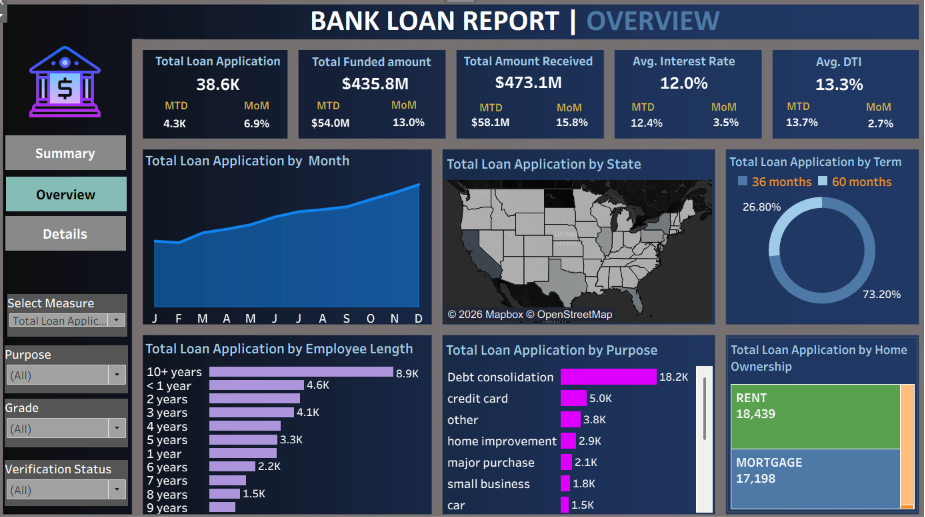

This screenshot's page, from the dashboard's own definition file:
{"tool":"tableau","page":{"name":"OVERVIEW","canvas":[1000,1000],"units":"permille","ordinal":1},"visuals":[{"type":"image","param":"Image/Tableau Background 2.jpg","box":[5.7,9.9,988.6,980.1]},{"type":"text","box":[337.1,18.6,449.4,65.8]},{"type":"image","param":"Image/download (1) 1.png","box":[20.6,88.1,118.5,162.5]},{"type":"worksheet","title":"Total Loan Application","mark":"Automatic","box":[167.5,109.2,148.6,79.4]},{"type":"worksheet","title":"Total Amount Received","mark":"Automatic","box":[495.5,109.2,152.1,72]},{"type":"worksheet","title":"Avg. Interest Rate","mark":"Automatic","box":[660.1,109.2,152.8,74.4]},{"type":"worksheet","title":"Total Funded amount","mark":"Automatic","box":[330.8,110.4,149.3,73.2]},{"type":"worksheet","title":"Avg. DTI","mark":"Automatic","box":[826.9,110.4,149.3,76.9]},{"type":"text","box":[411.7,193.6,55.1,37.2]},{"type":"text","box":[172.4,194.8,50.2,37.2]},{"type":"text","box":[255.4,194.8,55.1,37.2]},{"type":"text","box":[334.3,194.8,50.2,37.2]},{"type":"text","box":[751.6,197.3,55.1,37.2]},{"type":"text","box":[506.6,198.5,50.2,37.2]},{"type":"text","box":[587.6,198.5,55.1,37.2]},{"type":"text","box":[674.1,199.8,37.7,31]},{"type":"text","box":[833.2,199.8,50.2,28.5]},{"type":"text","box":[915.6,199.8,55.1,32.3]},{"type":"worksheet","title":"MoM Total Funded Amount","mark":"Automatic","box":[420.1,225.8,48.1,36]},{"type":"worksheet","title":"MTD Total Funded Amount","mark":"Automatic","box":[338.4,227.1,46.8,37.2]},{"type":"worksheet","title":"MTD Total Amount Received","mark":"Automatic","box":[506.7,227.1,48.7,33.5]},{"type":"worksheet","title":"MoM Avg. Interest Rate","mark":"Automatic","box":[761.3,227.1,39.1,33.5]},{"type":"worksheet","title":"MTD Avg. Interest Rate","mark":"Automatic","box":[672.7,228.3,48.1,34.7]},{"type":"worksheet","title":"MoM Avg.DTI","mark":"Automatic","box":[917.7,228.3,54.4,36]},{"type":"worksheet","title":"MTD Loan Application","mark":"Automatic","box":[175.2,229.5,41.2,34.7]},{"type":"worksheet","title":"MoM Loan Application","mark":"Automatic","box":[265.2,229.5,34.9,33.5]},{"type":"worksheet","title":"MoM Total Amount Received","mark":"Automatic","box":[591.1,229.5,53,29.8]},{"type":"worksheet","title":"MTD Avg. DTI","mark":"Automatic","box":[838.8,229.5,46.8,29.8]},{"type":"dashboard-object","box":[16.3,269.2,127.8,64.5]},{"type":"worksheet","title":"Month","mark":"Area","rows":["Calculation_0456039233261605","Calculation_0456039233261605"],"cols":["issue_date"],"box":[162.2,292.8,305.9,332.5]},{"type":"worksheet","title":"Term","mark":"Pie","rows":["Calculation_0456039258734631","Calculation_0456039258734631"],"box":[781.9,296.5,202.6,323.8]},{"type":"worksheet","title":"State","mark":"Multipolygon","box":[482.3,299,284.7,318.9]},{"type":"legend","title":"Term","param":"[federated.1d4ytph0btjmoy1crx2t60rukmry].[none:term:nk]","box":[790.4,338.7,173.5,31]},{"type":"dashboard-object","box":[17,346.2,127.8,64.5]},{"type":"dashboard-object","box":[16.3,419.4,127.8,64.5]},{"type":"parameter","param":"[Parameters].[Parameter 1]","box":[18.4,564.5,127.5,79.4]},{"type":"worksheet","title":"Employee Length","mark":"Automatic","rows":["emp_length"],"cols":["Calculation_0456039233261605"],"box":[162.2,642.7,305.9,331.3]},{"type":"worksheet","title":"Purpose","mark":"Automatic","rows":["purpose"],"cols":["Calculation_0456039233261605"],"box":[481.6,645.2,286.1,326.3]},{"type":"worksheet","title":"Home Own","mark":"Automatic","box":[783.3,646.4,200.4,322.6]},{"type":"filter","title":"Avg. DTI","param":"[federated.1d4ytph0btjmoy1crx2t60rukmry].[none:purpose:nk]","box":[15.6,660.1,131,89.3]},{"type":"filter","title":"Avg. DTI","param":"[federated.1d4ytph0btjmoy1crx2t60rukmry].[none:grade:nk]","box":[15.6,759.3,131,90.6]},{"type":"filter","title":"Avg. DTI","param":"[federated.1d4ytph0btjmoy1crx2t60rukmry].[none:verification_status:nk]","box":[15.6,873.5,131,85.6]}]}

Visuals, with their boxes on the dashboard's canvas, which has no fixed pixel size, in thousandths of its width and height (x1, y1, x2, y2). These are canvas units, not pixel positions in the 925x517 screenshot, which may show the page scaled, cropped or inside an application window:
image: crop(6, 10, 994, 990)
text: crop(337, 19, 786, 84)
image: crop(21, 88, 139, 251)
"Total Loan Application" worksheet: crop(168, 109, 316, 189)
"Total Amount Received" worksheet: crop(496, 109, 648, 181)
"Avg. Interest Rate" worksheet: crop(660, 109, 813, 184)
"Total Funded amount" worksheet: crop(331, 110, 480, 184)
"Avg. DTI" worksheet: crop(827, 110, 976, 187)
text: crop(412, 194, 467, 231)
text: crop(172, 195, 223, 232)
text: crop(255, 195, 310, 232)
text: crop(334, 195, 384, 232)
text: crop(752, 197, 807, 234)
text: crop(507, 198, 557, 236)
text: crop(588, 198, 643, 236)
text: crop(674, 200, 712, 231)
text: crop(833, 200, 883, 228)
text: crop(916, 200, 971, 232)
"MoM Total Funded Amount" worksheet: crop(420, 226, 468, 262)
"MTD Total Funded Amount" worksheet: crop(338, 227, 385, 264)
"MTD Total Amount Received" worksheet: crop(507, 227, 555, 261)
"MoM Avg. Interest Rate" worksheet: crop(761, 227, 800, 261)
"MTD Avg. Interest Rate" worksheet: crop(673, 228, 721, 263)
"MoM Avg.DTI" worksheet: crop(918, 228, 972, 264)
"MTD Loan Application" worksheet: crop(175, 230, 216, 264)
"MoM Loan Application" worksheet: crop(265, 230, 300, 263)
"MoM Total Amount Received" worksheet: crop(591, 230, 644, 259)
"MTD Avg. DTI" worksheet: crop(839, 230, 886, 259)
dashboard-object: crop(16, 269, 144, 334)
"Month" worksheet (Area marks): crop(162, 293, 468, 625)
"Term" worksheet (Pie marks): crop(782, 296, 984, 620)
"State" worksheet (Multipolygon marks): crop(482, 299, 767, 618)
"Term" legend: crop(790, 339, 964, 370)
dashboard-object: crop(17, 346, 145, 411)
dashboard-object: crop(16, 419, 144, 484)
parameter: crop(18, 564, 146, 644)
"Employee Length" worksheet: crop(162, 643, 468, 974)
"Purpose" worksheet: crop(482, 645, 768, 972)
"Home Own" worksheet: crop(783, 646, 984, 969)
"Avg. DTI" filter: crop(16, 660, 147, 749)
"Avg. DTI" filter: crop(16, 759, 147, 850)
"Avg. DTI" filter: crop(16, 874, 147, 959)
